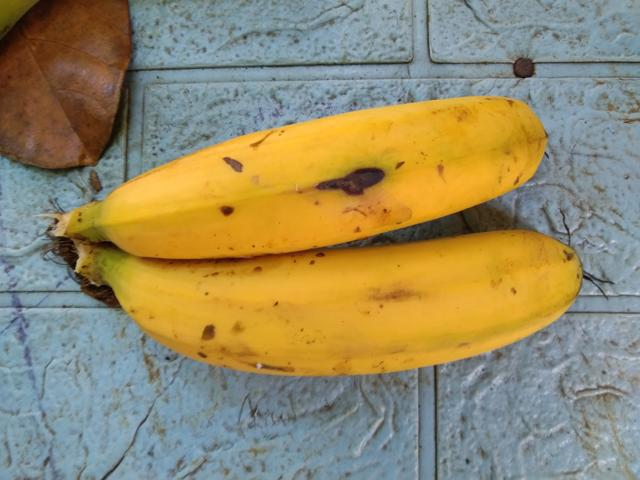freshripe: (124, 235, 588, 400)
ripe: (99, 87, 539, 254)
